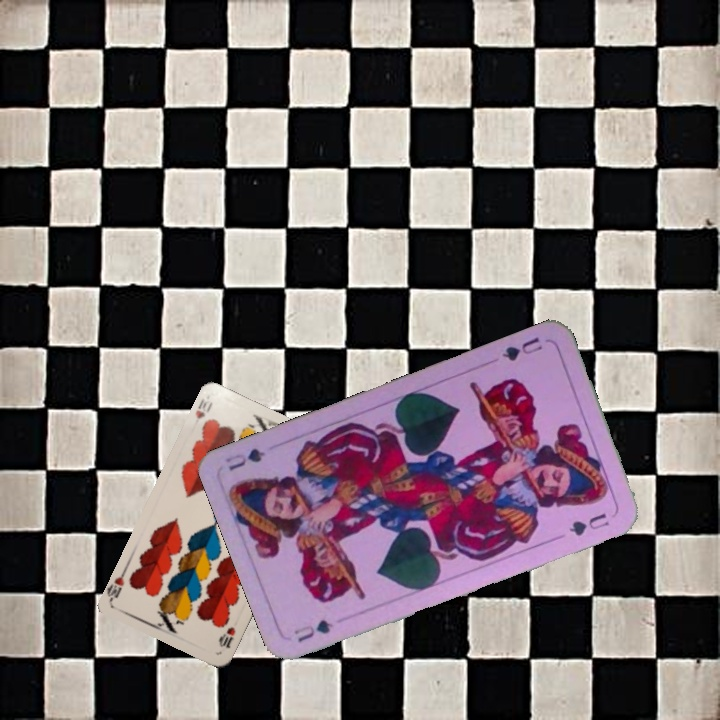GU: (497, 332, 545, 364), (289, 615, 336, 645)
H10: (215, 623, 238, 651), (191, 393, 212, 422)
